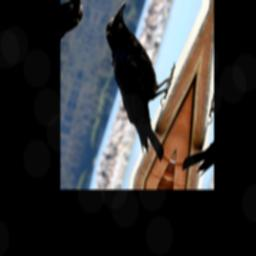Crow: (78, 0, 198, 163)
